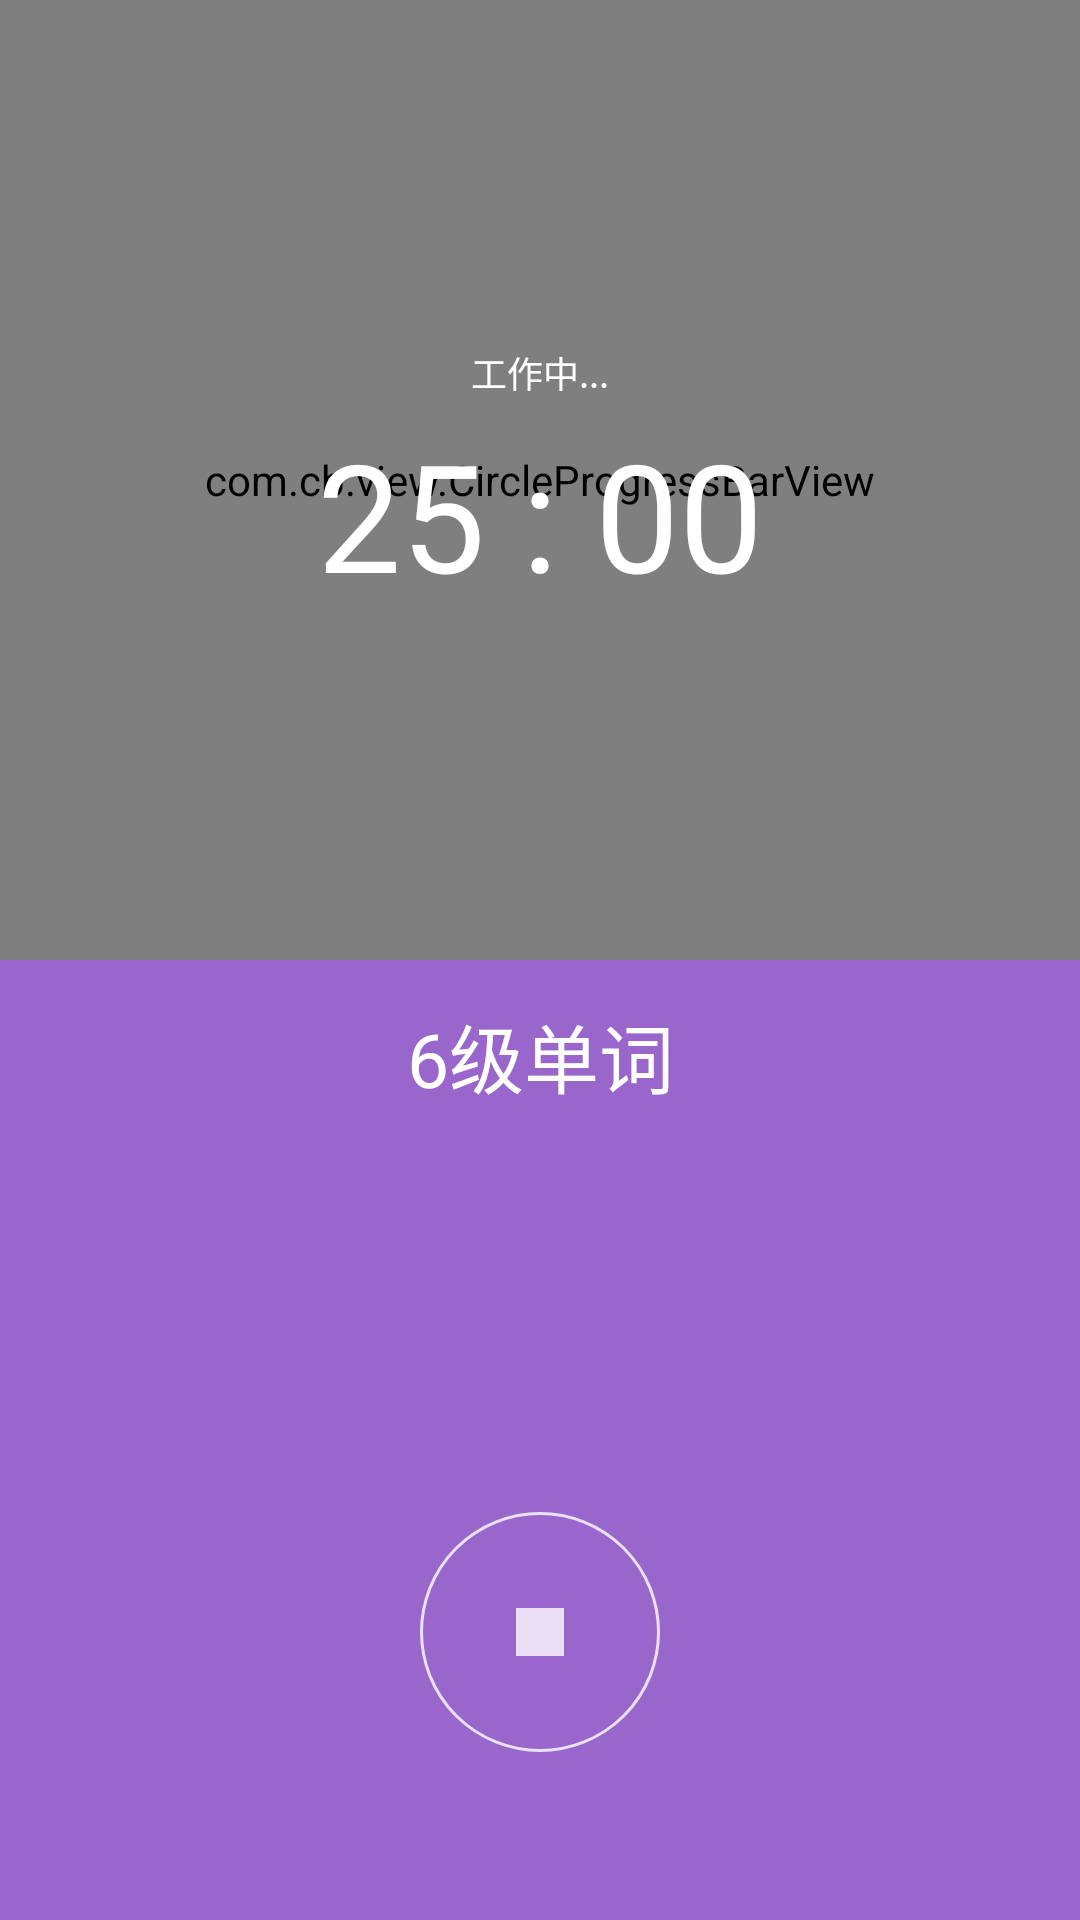

Locate icon controls on the screen. Image size 1080 x 1920, boxes as Rect(x1, y1, x2, y2).
stop: Rect(420, 1512, 660, 1752)
